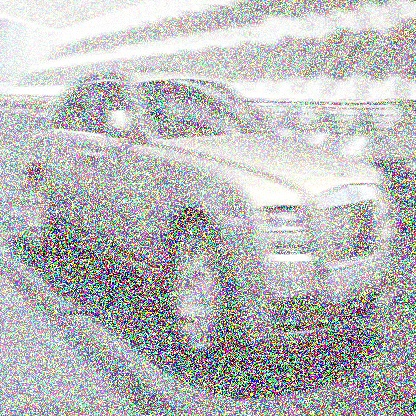Vehicle: (24, 70, 397, 364)
